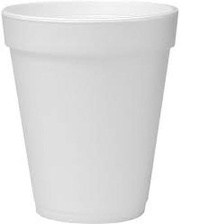paper_cup: (0, 0, 182, 224)
